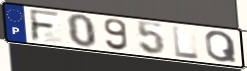0: (63, 13, 99, 49)
5: (134, 21, 168, 57)
9: (103, 18, 130, 52)
F: (28, 8, 62, 43)
L: (171, 24, 202, 60)
Q: (204, 30, 239, 65)
